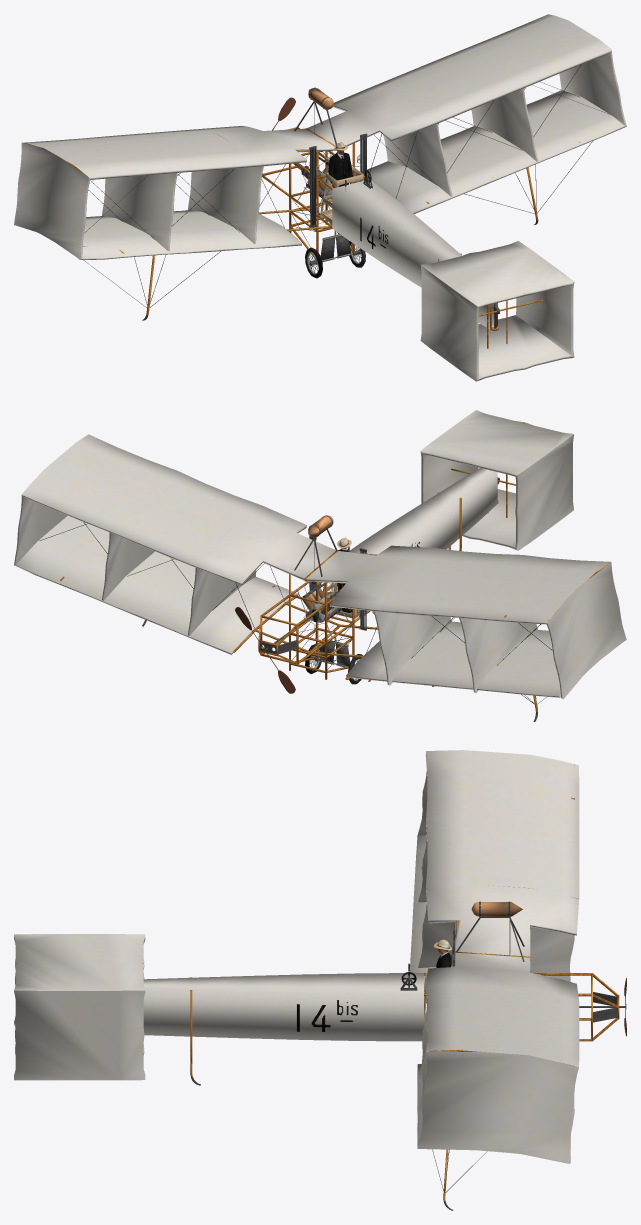
Rendered from 14_Bis.glb.
3 renders of one model, top to bottom at view 1: azimuth 30°, elevation 25°; view 2: azimuth 150°, elevation 25°; view 3: azimuth 270°, elevation 25°, orthographic. The views are drawn at different scales.
Visible parts, largest first — view 1: ailesH_ailesH.mesh, ailesB_ailesB.mesh, gouverneH_gouverneH.mesh, entreailes_entreailes.mesh, gouverneV_gouverneV.mesh, fuselage_fuselage.mesh, entreailes_entreailes.mesh.004, entreailes_entreailes.mesh.003, entreailes_entreailes.mesh.002, entreailes_entreailes.mesh.001, structure_structure.mesh, cables_cables.mesh (+4 smaller); view 2: ailesH_ailesH.mesh, ailesB_ailesB.mesh, entreailes_entreailes.mesh, gouverneH_gouverneH.mesh, gouverneV_gouverneV.mesh, fuselage_fuselage.mesh, structure_structure.mesh, entreailes_entreailes.mesh.004, entreailes_entreailes.mesh.003, entreailes_entreailes.mesh.002, entreailes_entreailes.mesh.001, moteur_moteur.mesh (+3 smaller); view 3: ailesH_ailesH.mesh, fuselage_fuselage.mesh, entreailes_entreailes.mesh, gouverneV_gouverneV.mesh, gouverneH_gouverneH.mesh, entreailes_entreailes.mesh.004, ailesB_ailesB.mesh, structure_structure.mesh, moteur_moteur.mesh.001.
Part boxes in pixels (left/top/right/bottom): ailesH_ailesH.mesh: left=22, top=14, right=611, bottom=179; ailesB_ailesB.mesh: left=75, top=90, right=626, bottom=259; gouverneH_gouverneH.mesh: left=421, top=241, right=574, bottom=381; entreailes_entreailes.mesh: left=14, top=50, right=626, bottom=259; gouverneV_gouverneV.mesh: left=420, top=265, right=574, bottom=381; fuselage_fuselage.mesh: left=332, top=181, right=489, bottom=329; entreailes_entreailes.mesh.004: left=188, top=129, right=263, bottom=243; entreailes_entreailes.mesh.003: left=102, top=173, right=177, bottom=251; entreailes_entreailes.mesh.002: left=383, top=121, right=452, bottom=196; entreailes_entreailes.mesh.001: left=471, top=88, right=538, bottom=161; structure_structure.mesh: left=24, top=127, right=579, bottom=330; cables_cables.mesh: left=83, top=64, right=610, bottom=308; ailesH_ailesH.mesh: left=22, top=434, right=610, bottom=624; ailesB_ailesB.mesh: left=14, top=516, right=626, bottom=697; entreailes_entreailes.mesh: left=14, top=494, right=626, bottom=699; gouverneH_gouverneH.mesh: left=421, top=410, right=573, bottom=550; gouverneV_gouverneV.mesh: left=420, top=434, right=573, bottom=550; fuselage_fuselage.mesh: left=332, top=468, right=497, bottom=611; structure_structure.mesh: left=60, top=492, right=608, bottom=721; entreailes_entreailes.mesh.004: left=373, top=572, right=452, bottom=685; entreailes_entreailes.mesh.003: left=459, top=618, right=538, bottom=693; entreailes_entreailes.mesh.002: left=188, top=567, right=256, bottom=635; entreailes_entreailes.mesh.001: left=102, top=532, right=154, bottom=600; moteur_moteur.mesh: left=294, top=515, right=366, bottom=636; ailesH_ailesH.mesh: left=425, top=750, right=579, bottom=1067; fuselage_fuselage.mesh: left=143, top=973, right=423, bottom=1041; entreailes_entreailes.mesh: left=417, top=771, right=578, bottom=1163; gouverneV_gouverneV.mesh: left=14, top=940, right=145, bottom=1080; gouverneH_gouverneH.mesh: left=14, top=934, right=145, bottom=1055; entreailes_entreailes.mesh.004: left=418, top=885, right=578, bottom=981; ailesB_ailesB.mesh: left=409, top=835, right=570, bottom=1156; structure_structure.mesh: left=190, top=764, right=619, bottom=1210; moteur_moteur.mesh.001: left=471, top=902, right=522, bottom=916.
Size of the model in its own units: 2.92 by 0.8658 by 2.4.
Materials: 7 (6 with a texture image).
